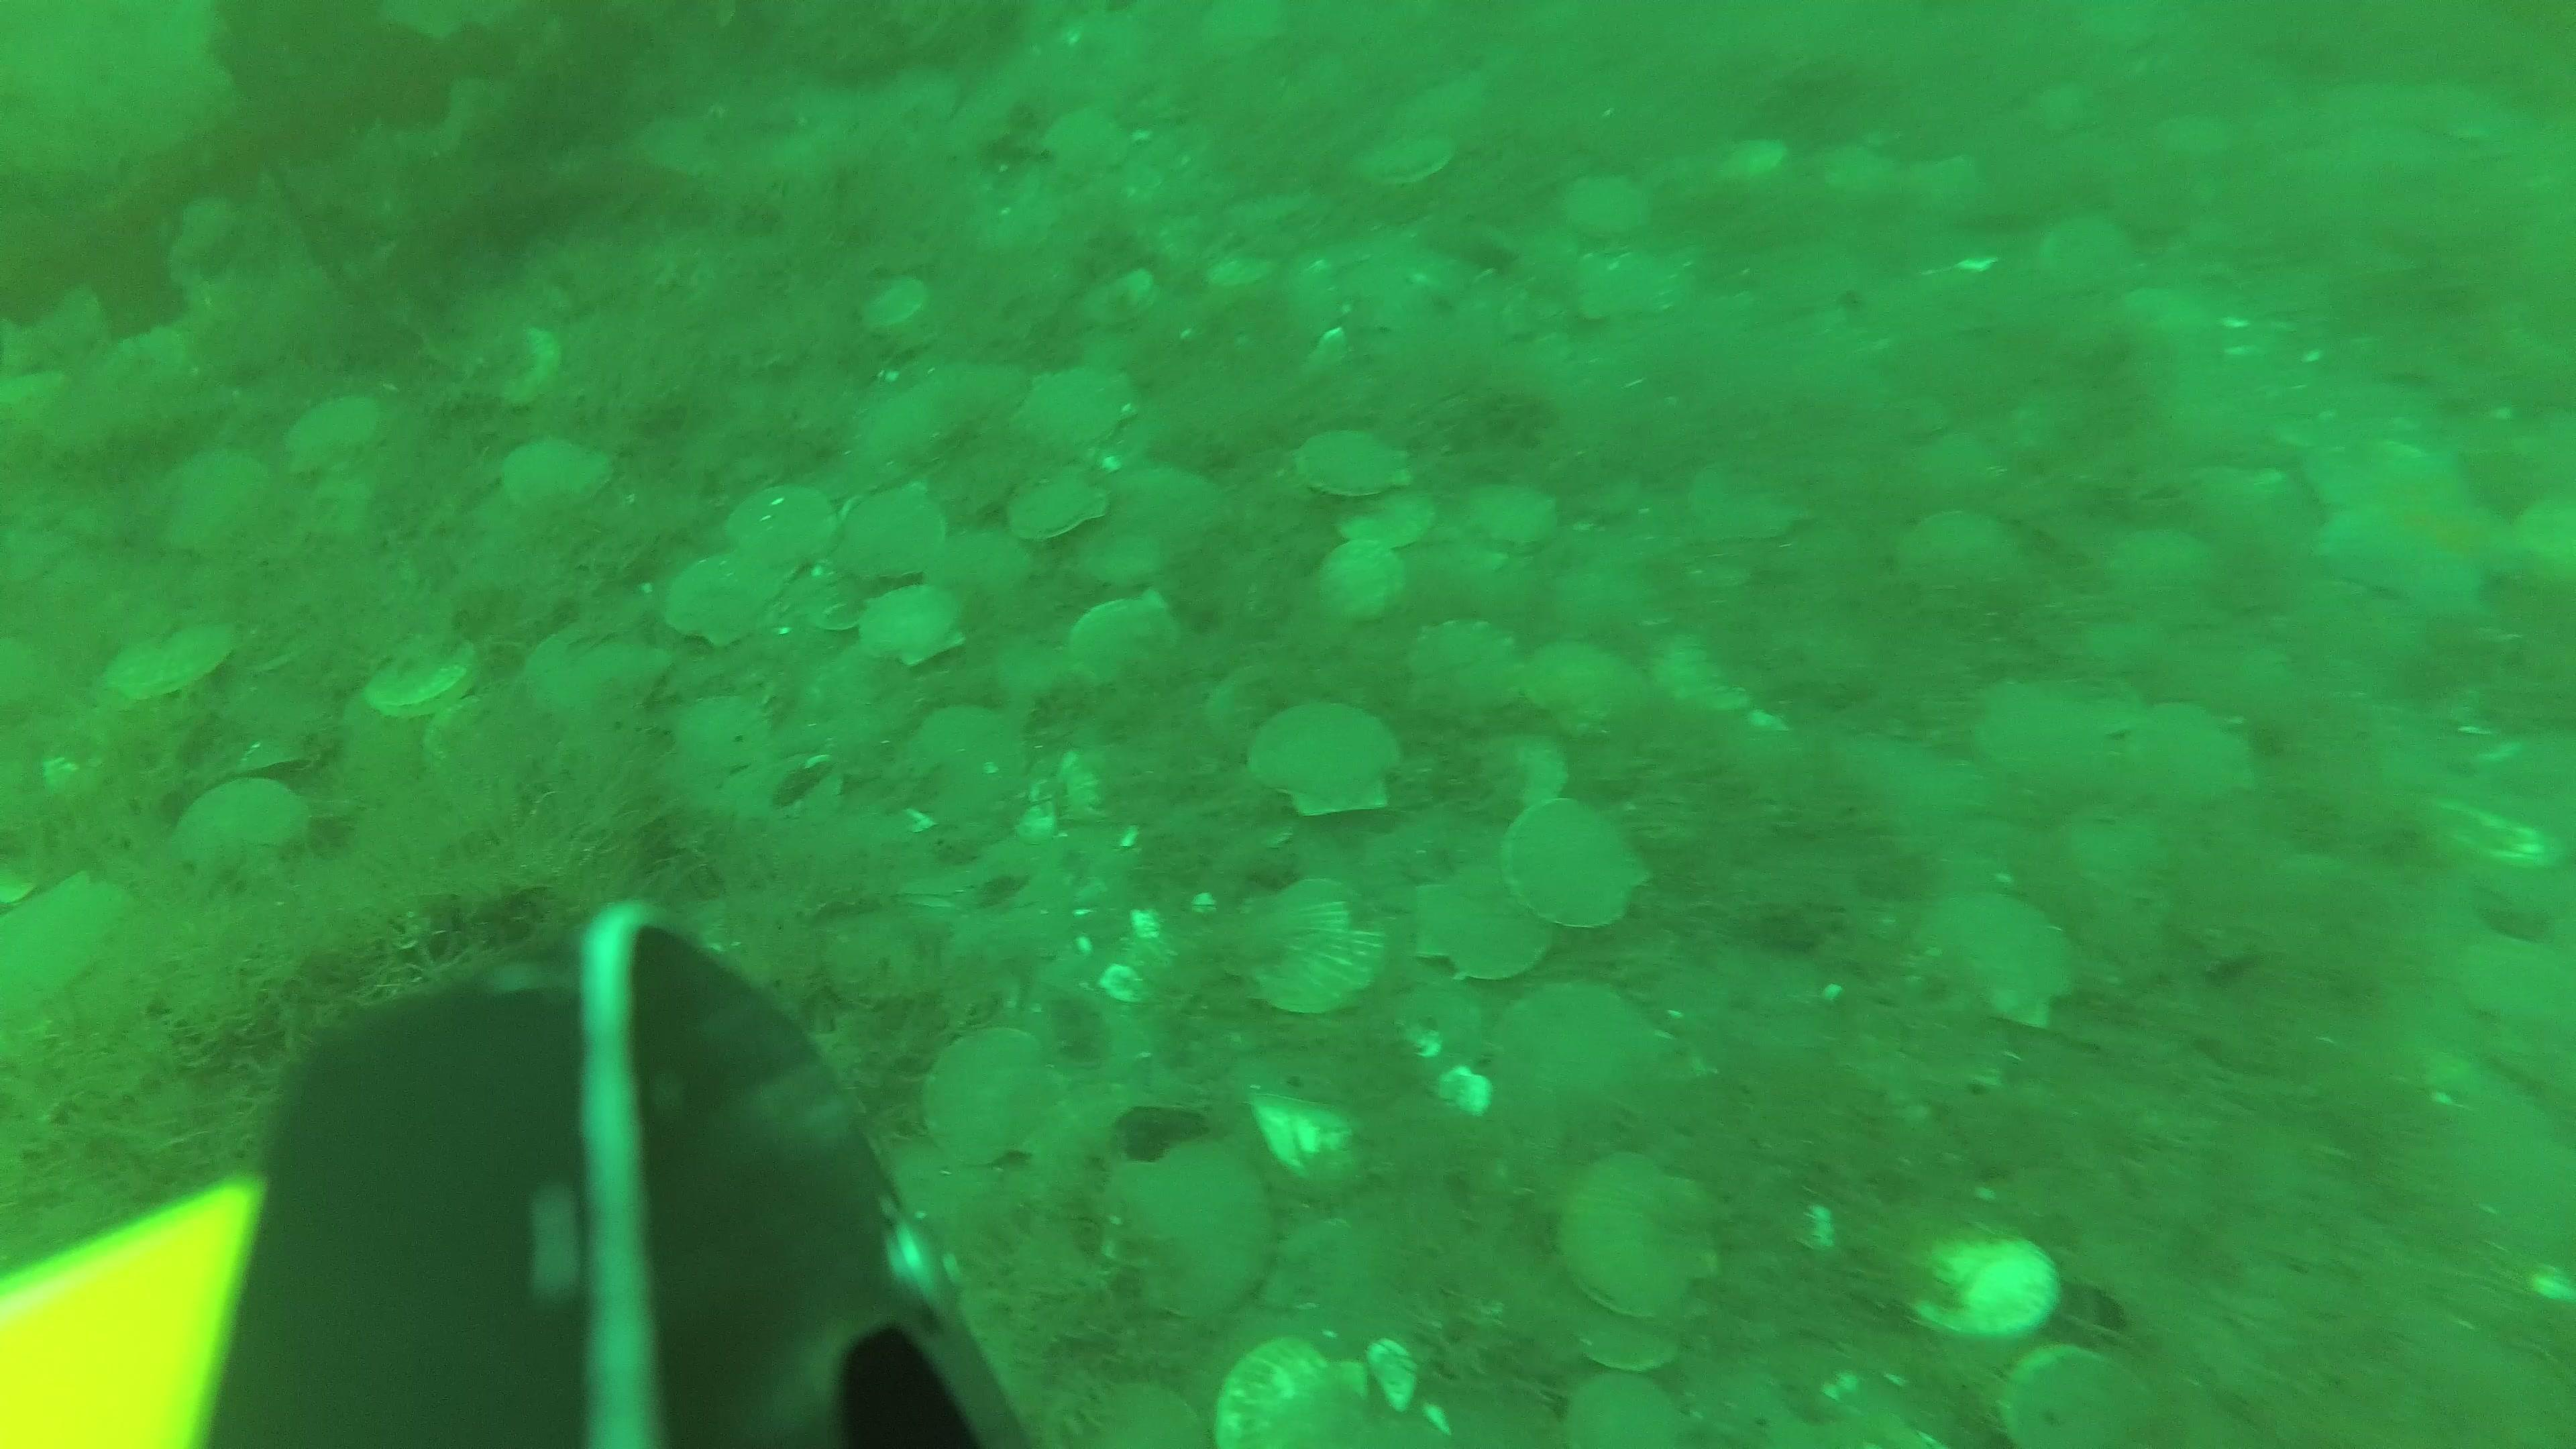scallop: (1104, 1138, 1283, 1325), (1553, 1143, 1721, 1322), (1488, 980, 1679, 1132), (1898, 883, 2084, 1035), (1217, 867, 1394, 1021), (1888, 1217, 2070, 1348), (1495, 793, 1652, 936), (1971, 672, 2127, 809), (1214, 1322, 1380, 1449), (922, 1030, 1070, 1169), (5, 872, 140, 1024), (1412, 858, 1562, 989), (1247, 697, 1407, 819), (4, 872, 142, 1001), (1996, 1348, 2169, 1449), (170, 777, 317, 890), (524, 616, 674, 725), (2128, 692, 2259, 810), (814, 902, 952, 1010), (1405, 616, 1525, 734), (149, 448, 276, 557), (1520, 632, 1649, 740), (902, 706, 1033, 812), (412, 692, 556, 787), (658, 547, 786, 649), (1684, 453, 1824, 543), (1897, 508, 2031, 602), (1062, 591, 1182, 695), (1550, 1369, 1702, 1449), (101, 619, 242, 704), (1010, 361, 1143, 451), (2095, 527, 2217, 625), (1065, 1368, 1207, 1449), (840, 479, 950, 582), (853, 580, 971, 671), (1649, 632, 1771, 718), (725, 479, 842, 570), (2029, 211, 2143, 303), (363, 644, 487, 727), (1201, 656, 1299, 761), (280, 389, 391, 479), (497, 433, 619, 513), (1001, 464, 1113, 548), (1293, 425, 1412, 502), (1099, 471, 1230, 540), (674, 694, 777, 775), (1316, 538, 1410, 626), (927, 525, 1044, 596), (1552, 172, 1661, 242), (1330, 485, 1440, 554), (1465, 479, 1564, 556), (1499, 722, 1575, 821), (1069, 517, 1185, 580), (1568, 1316, 1688, 1376), (1040, 110, 1138, 182), (2505, 488, 2576, 586), (1194, 2, 1293, 69), (1904, 142, 1983, 223), (1815, 134, 1904, 205), (495, 324, 564, 414), (1353, 136, 1467, 191), (2150, 103, 2240, 166), (858, 269, 936, 341), (1081, 260, 1157, 333), (1714, 129, 1794, 196), (1194, 249, 1284, 297)
starfish: (2298, 419, 2521, 623)
